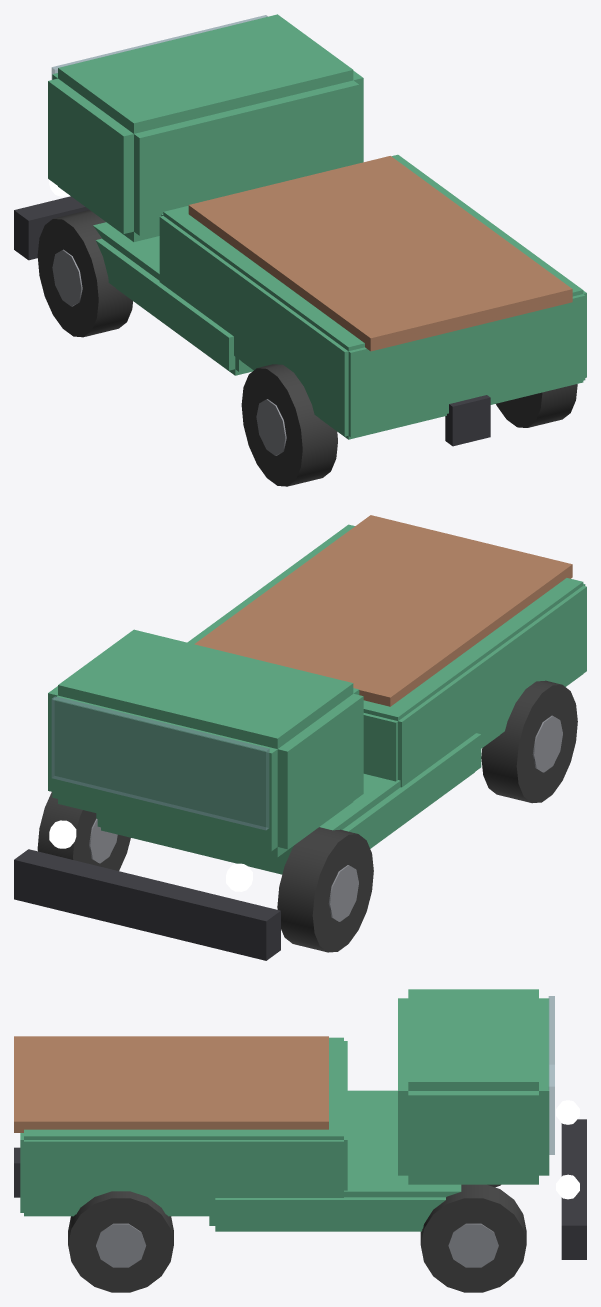
File: yard_truck.glb
3 renders of one model, top to bottom at view 1: azimuth 30°, elevation 25°; view 2: azimuth 150°, elevation 25°; view 3: azimuth 270°, elevation 25°, orthographic. The views are drawn at different scales.
Parts seen in each view (by area): view 1: yard_truck; view 2: yard_truck; view 3: yard_truck.
Boxes of the visible parts, box(x1,y1,x2,y2) form: yard_truck: box(14, 14, 586, 486); yard_truck: box(14, 515, 586, 960); yard_truck: box(14, 989, 586, 1292).
Bounding box in the file's own units: 2.2 × 1.74 × 4.55.
